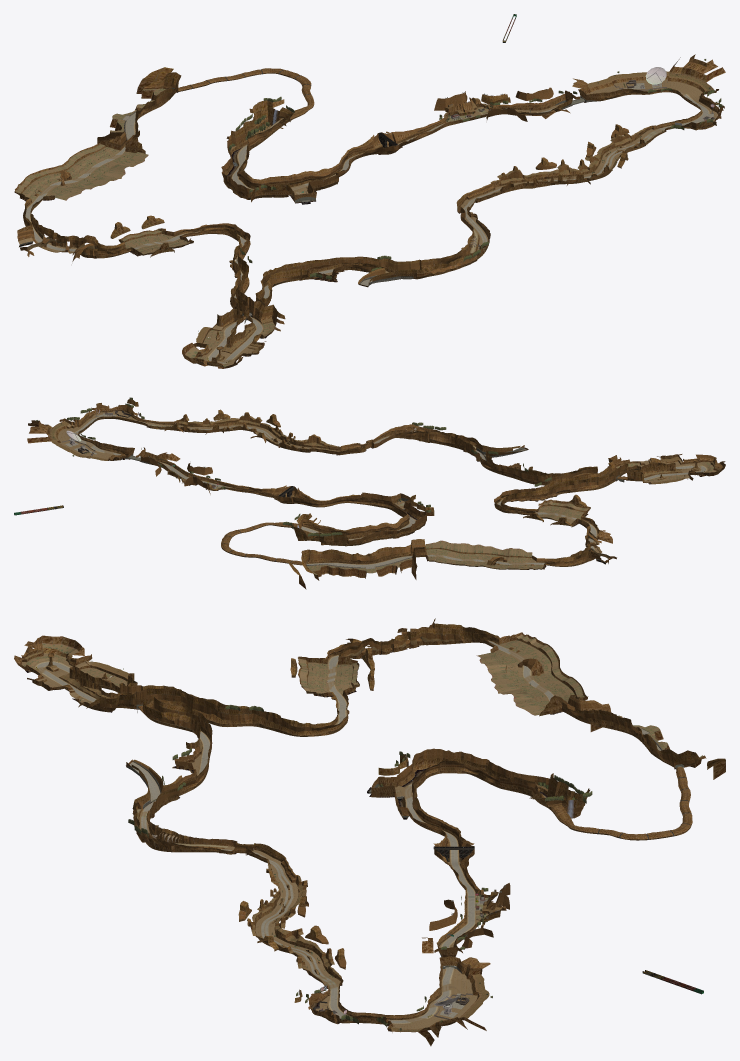
File: redrock_ridge.glb
3 views of the same model, one above another, from view 1: azimuth 30°, elevation 25°; view 2: azimuth 150°, elevation 25°; view 3: azimuth 270°, elevation 25° (orthographic). The views are drawn at different scales.
Parts seen in each view (by area): view 1: mesh, transparent; view 2: mesh, transparent; view 3: mesh, transparent.
Part boxes in pixels (x1,y1,x2,y2): mesh: [14, 14, 725, 368]; transparent: [26, 59, 722, 349]; mesh: [14, 398, 725, 589]; transparent: [36, 397, 687, 569]; mesh: [14, 618, 725, 1046]; transparent: [80, 639, 649, 1030].
Size of what is drawn, in the model's own units: 2573 by 155 by 1861.
2 materials, 2 textured.
